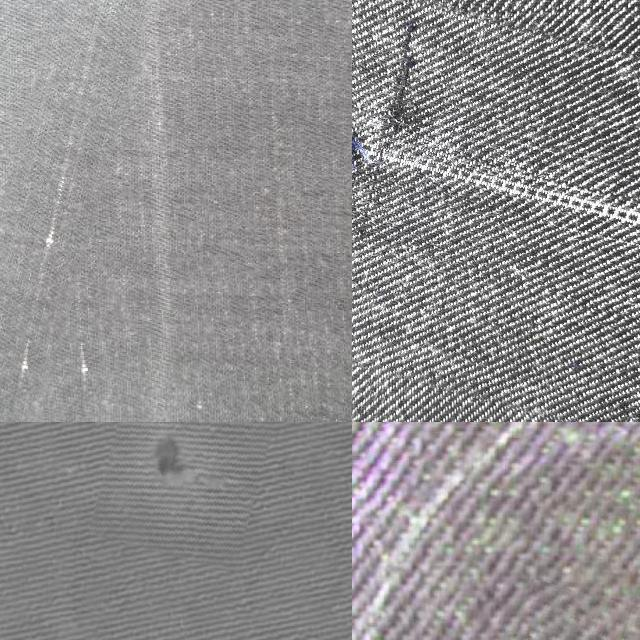other: (97, 422, 266, 564)
stains: (352, 0, 640, 418)
